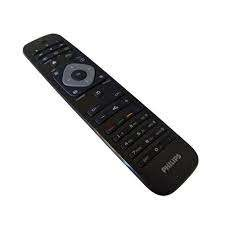remote control: (20, 24, 206, 202)
